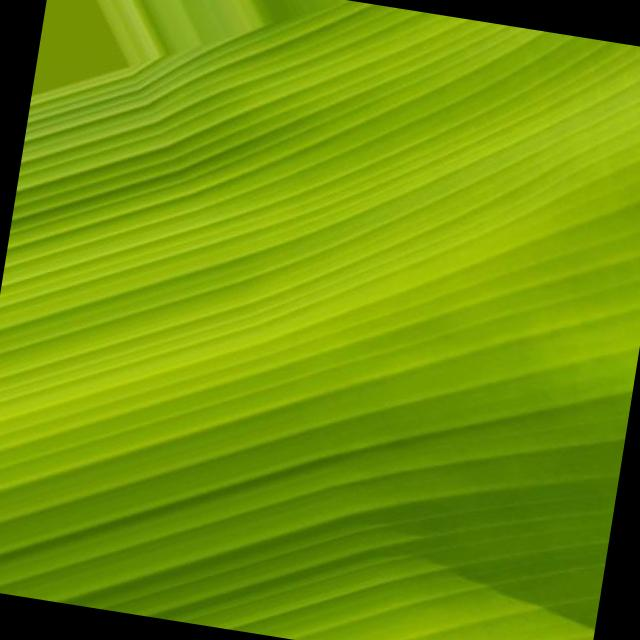Banana_Healthy: (84, 87, 551, 520)
